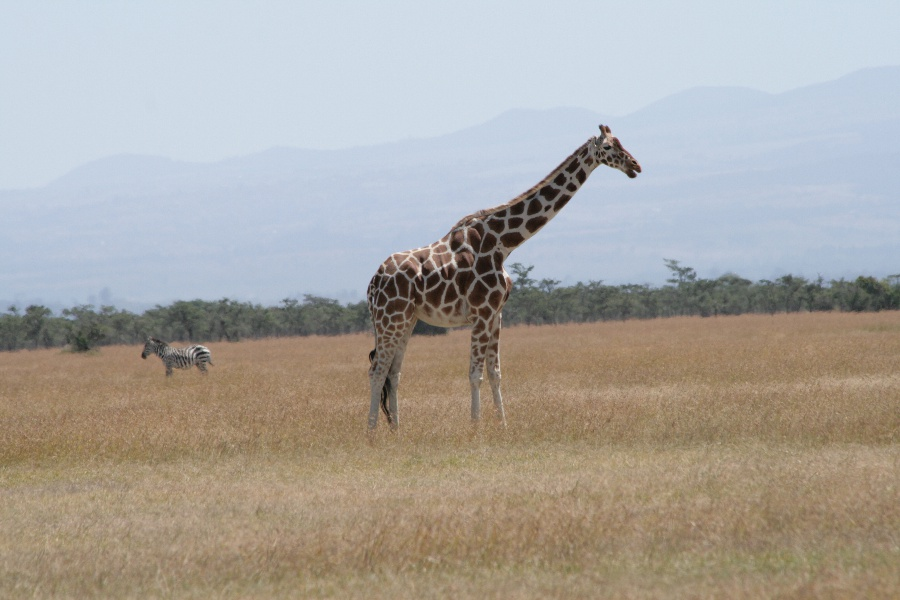giraffe: (352, 118, 644, 442)
